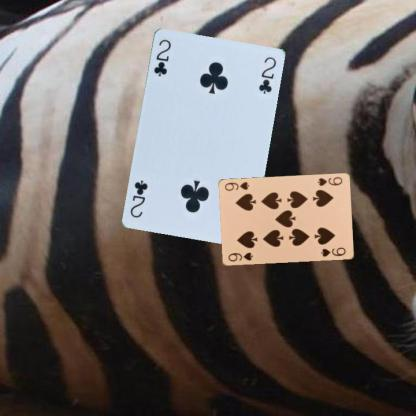2c: (151, 37, 172, 78)
9s: (225, 250, 254, 263), (315, 175, 343, 187)
